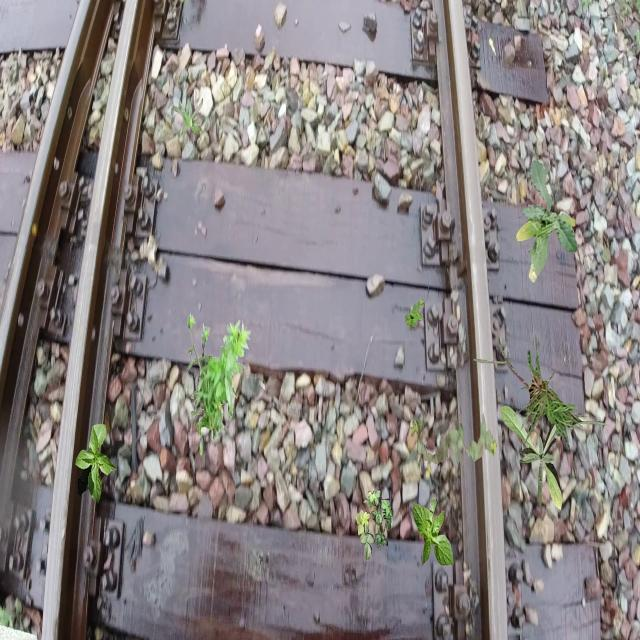Plant: (473, 328, 616, 448), (186, 312, 250, 456), (500, 404, 572, 512), (516, 159, 578, 284), (411, 411, 498, 479), (76, 424, 118, 504), (413, 497, 454, 568), (355, 487, 392, 560), (171, 93, 204, 139), (405, 298, 424, 330)
